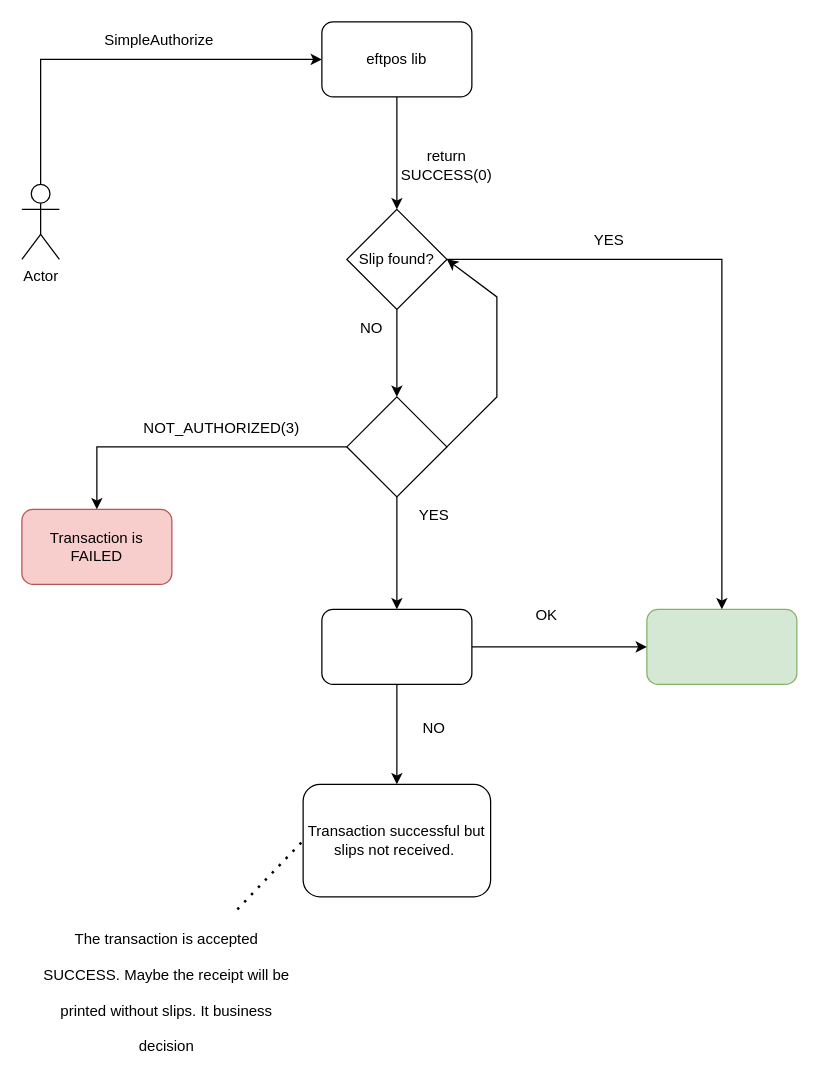
This 819x1081 diagram has some shape labels left out. The centre of each missing label's shape, as x and y in pixels:
"GetAdditionalCopy" goes at pixel 396 646.
"IsLastTransactionDone" goes at pixel 396 446.
"The slips and the receipt will be printed" goes at pixel 721 646.
